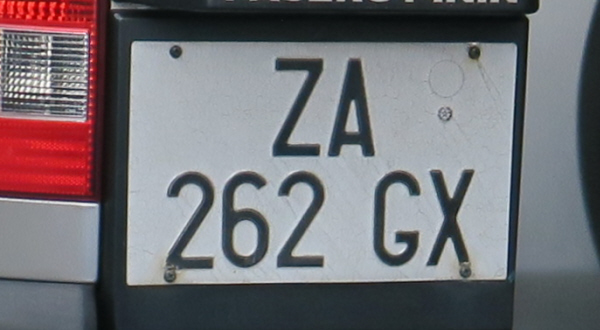license_plate: (126, 39, 517, 282)
